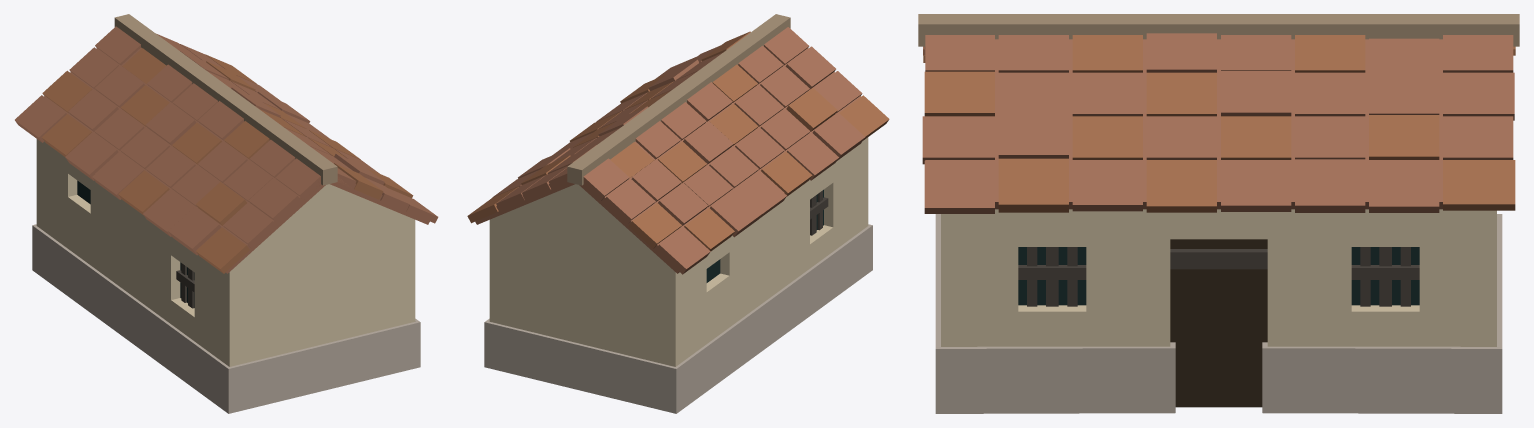
Rendered from Building_mode_L2_Northhouse020.fbx.
The picture shows the model from 3 angles, left to right: view 1: azimuth 30°, elevation 25°; view 2: azimuth 150°, elevation 25°; view 3: azimuth 270°, elevation 25°; orthographic projection. The views are drawn at different scales.
Parts seen in each view (by area): view 1: Building_mode_L2_Northhouse020; view 2: Building_mode_L2_Northhouse020; view 3: Building_mode_L2_Northhouse020.
Boxes of the visible parts, x1,y1,x2,y2 form: Building_mode_L2_Northhouse020: [15, 14, 438, 413]; Building_mode_L2_Northhouse020: [467, 14, 889, 413]; Building_mode_L2_Northhouse020: [918, 14, 1519, 413].
Size of the model in its own units: 2.89 by 2.83 by 4.71.
